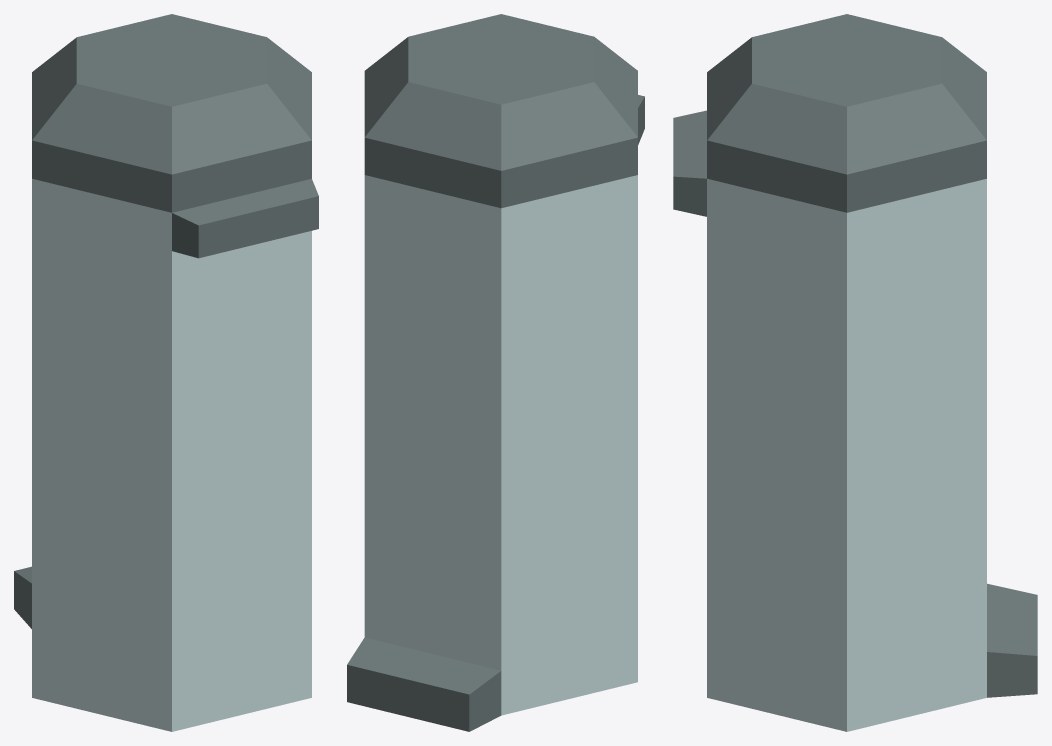
Rendered from trashcan.glb.
3 renders of one model, left to right at view 1: azimuth 30°, elevation 25°; view 2: azimuth 150°, elevation 25°; view 3: azimuth 270°, elevation 25°, orthographic. The views are drawn at different scales.
Parts seen in each view (by area): view 1: trashcan; view 2: trashcan; view 3: trashcan.
Part boxes in pixels (left/top/right/bottom): trashcan: left=14, top=14, right=318, bottom=731; trashcan: left=347, top=14, right=644, bottom=731; trashcan: left=673, top=14, right=1037, bottom=731.
Size of the model in its own units: 2.08 by 4.28 by 2.34.
